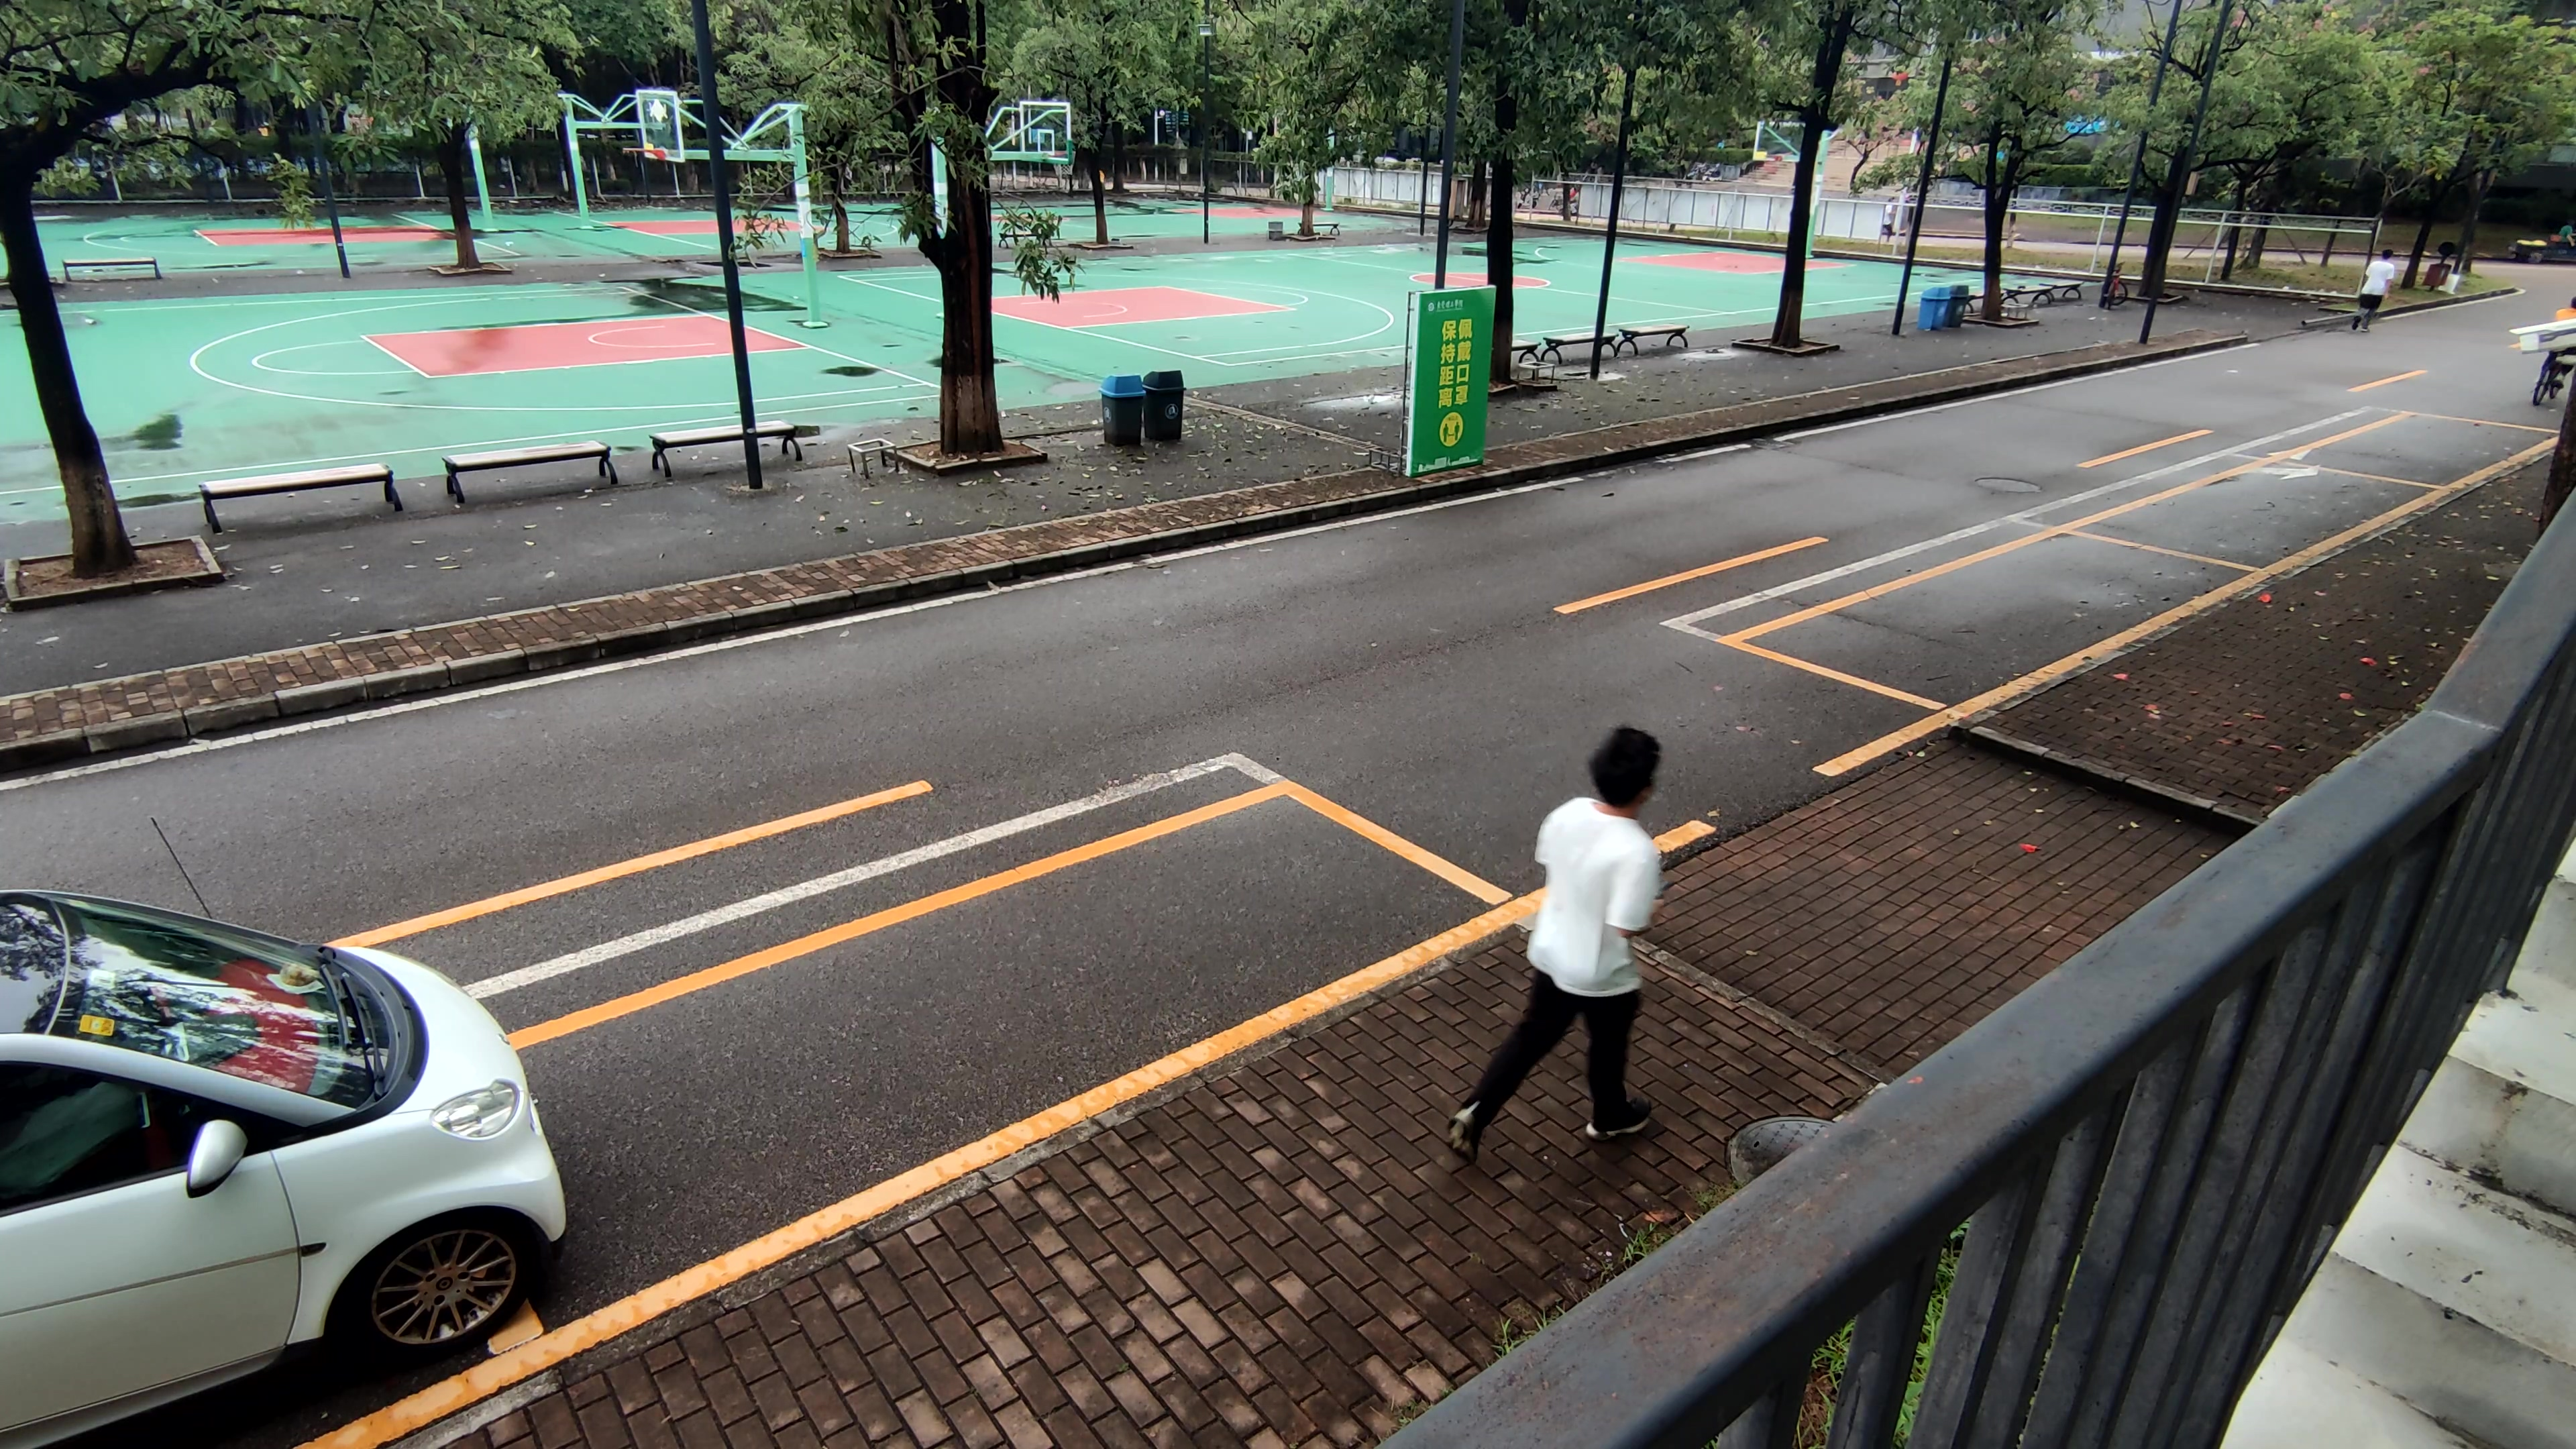space-empty: (336, 759, 1520, 1361), (1706, 522, 2273, 717), (2047, 439, 2463, 582), (2249, 396, 2564, 502)
